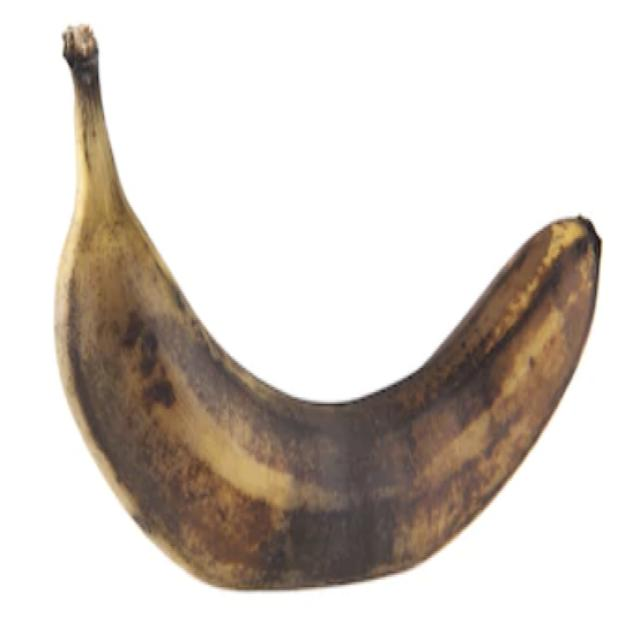rotten-banana: (52, 19, 602, 592)
